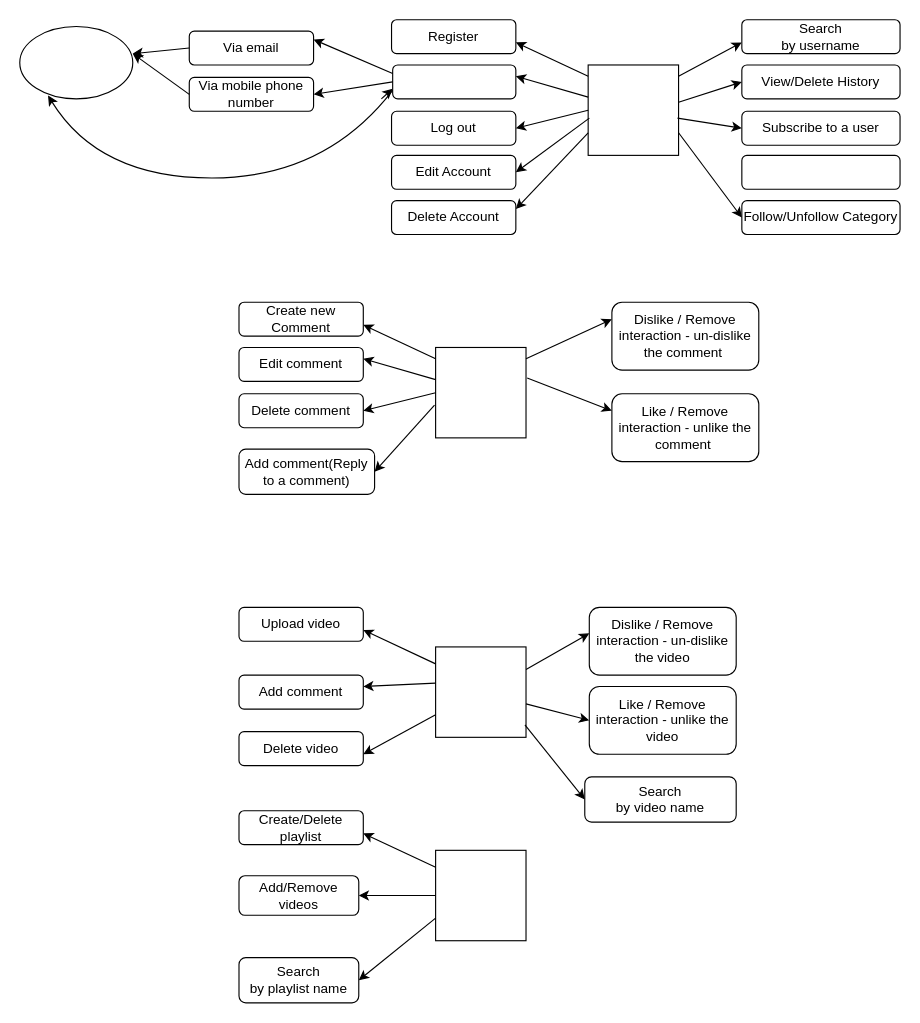
The diagram is 920 pixels wide and 1023 high, and some of its shapes have lost their labels. Each missing label, with the box of its shape:
Comment: (434, 346, 526, 438)
Forgotten password: (19, 25, 133, 99)
Log in: (392, 64, 516, 99)
Playlist: (434, 849, 526, 941)
Unsubscribe from a user: (741, 154, 900, 189)
USER: (587, 64, 679, 155)
Video: (434, 646, 526, 737)
